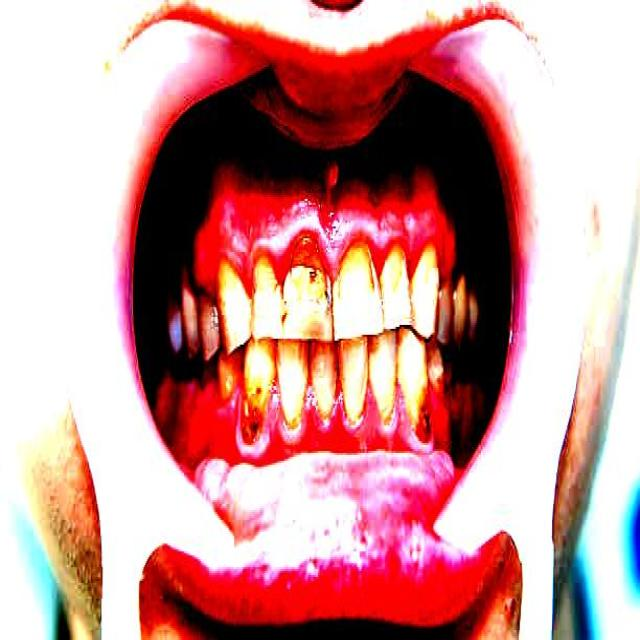caries: (289, 238, 327, 311)
